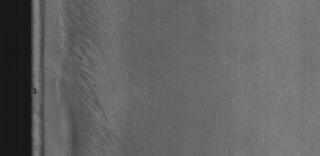water spot: (58, 4, 130, 156)
